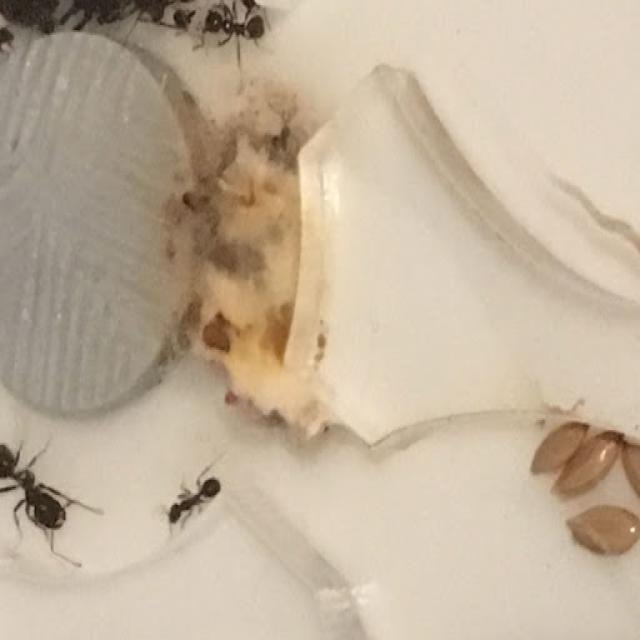ants: (0, 432, 95, 566), (158, 466, 228, 540), (192, 5, 281, 49)
